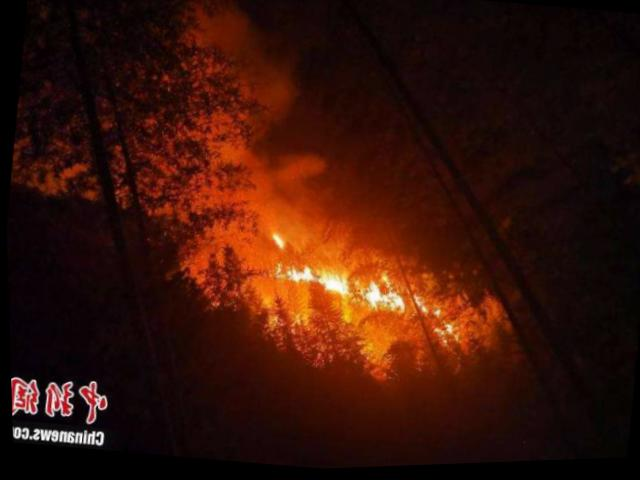fire: (257, 214, 484, 354)
